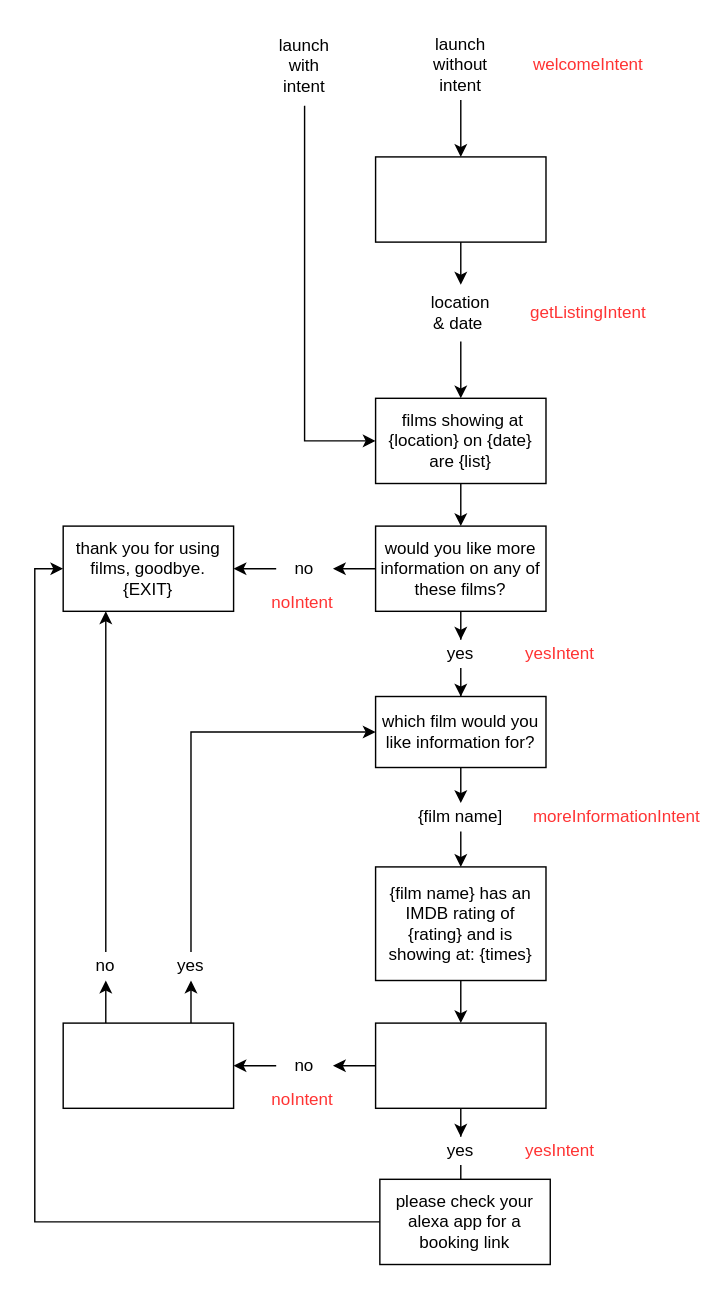
This 724x1289 diagram has some shape labels left out. The centre of each missing label's shape, as x and y in pixels:
"what listings would you like to check?" goes at [460,198].
"would you like any more information?" goes at [148,1065].
"would you like to book this film?" goes at [460,1065].
